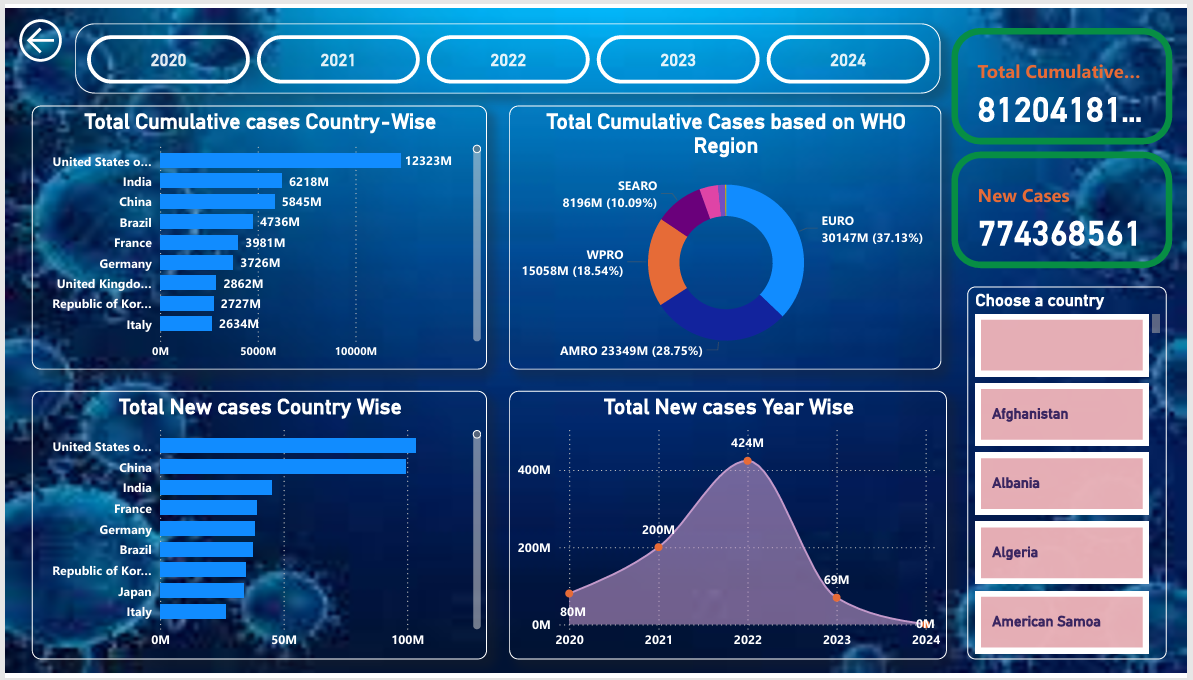

The dashboard page shown, as its layout file describes it:
{"tool":"powerbi","page":{"name":"Covid Data","canvas":[1280,720],"ordinal":1},"visuals":[{"type":"advancedSlicerVisual","title":"Choose a country","fields":{"Values":["WHO-COVID-19-global-data (3).Country"]},"box":[1041.9,300.6,216.3,404],"z":0},{"type":"advancedSlicerVisual","fields":{"Values":["WHO-COVID-19-global-data (3).Date_reported.Variation.Date Hierarchy.Year"]},"box":[76.3,15.9,936.9,76.3],"z":1000},{"type":"donutChart","title":"Total Cumulative Cases based on WHO Region","fields":{"Y":["Sum(WHO-COVID-19-global-data (3).Cumulative_cases)"],"Category":["WHO-COVID-19-global-data (3).WHO_region"]},"box":[545.6,105,467.6,286.3],"z":2000},{"type":"barChart","title":"Total Cumulative cases Country-Wise","fields":{"Category":["WHO-COVID-19-global-data (3).Country"],"Y":["Sum(WHO-COVID-19-global-data (3).Cumulative_cases)"]},"box":[28.6,105,493.1,286.3],"z":3000},{"type":"areaChart","title":"Total New cases Year Wise","fields":{"Y":["Sum(WHO-COVID-19-global-data (3).New_cases)"],"Category":["WHO-COVID-19-global-data (3).Date_reported.Variation.Date Hierarchy.Year"]},"box":[545.6,413.6,474,291.1],"z":4000},{"type":"cardVisual","fields":{"Data":["Sum(WHO-COVID-19-global-data (3).Cumulative_cases)","Sum(WHO-COVID-19-global-data (3).New_cases)"]},"box":[1019.6,15.9,249.7,272],"z":5000},{"type":"barChart","title":"Total New cases Country Wise","fields":{"Y":["Sum(WHO-COVID-19-global-data (3).New_cases)"],"Category":["WHO-COVID-19-global-data (3).Country"]},"box":[28.6,413.6,493.1,291.1],"z":6000},{"type":"actionButton","box":[0,0,76.3,68.4],"z":7000}]}

Visuals, with their boxes in screenshot pixels (x1, y1, x2, y2), scaled from the page's 1280x720 canvas onto the 1193x680 screenshot:
"Choose a country" advancedSlicerVisual: (971, 284, 1173, 665)
advancedSlicerVisual - WHO-COVID-19-global-data (3).Date_reported.Variation.Date Hierarchy.Year: (71, 15, 944, 87)
"Total Cumulative Cases based on WHO Region" donutChart: (509, 99, 944, 370)
"Total Cumulative cases Country-Wise" barChart: (27, 99, 486, 370)
"Total New cases Year Wise" areaChart: (509, 391, 950, 666)
cardVisual - Sum(WHO-COVID-19-global-data (3).Cumulative_cases) x Sum(WHO-COVID-19-global-data (3).New_cases): (950, 15, 1183, 272)
"Total New cases Country Wise" barChart: (27, 391, 486, 666)
actionButton: (0, 0, 71, 65)
